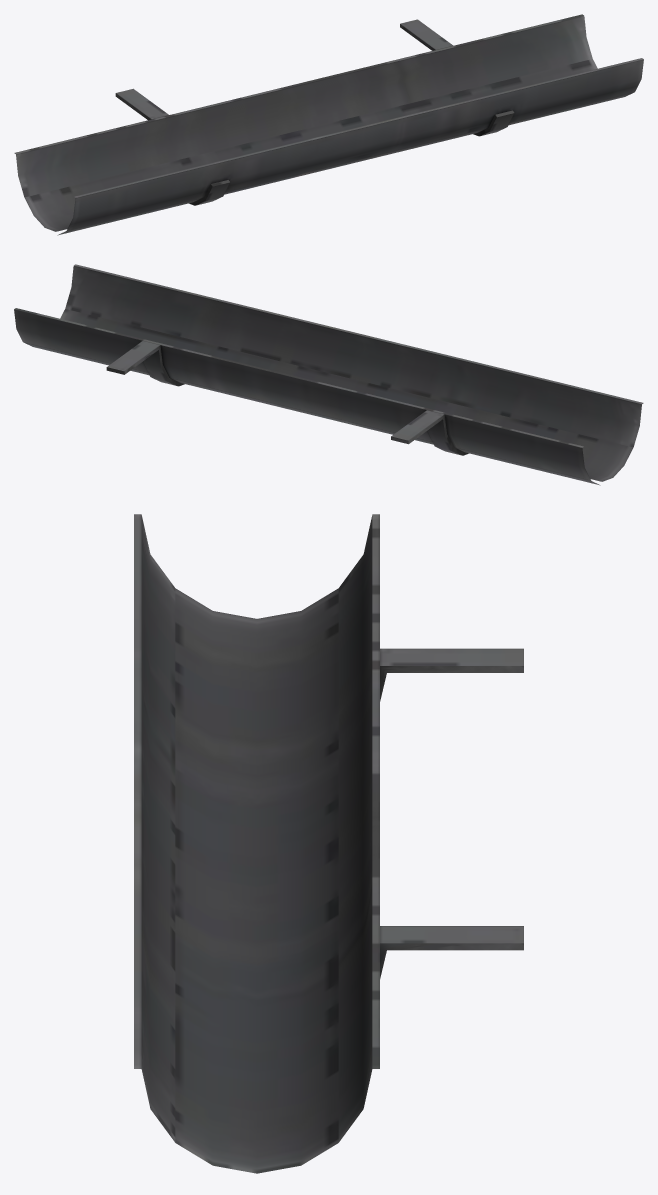
3 renders of one model, top to bottom at view 1: azimuth 30°, elevation 25°; view 2: azimuth 150°, elevation 25°; view 3: azimuth 270°, elevation 25°, orthographic. The views are drawn at different scales.
Parts seen in each view (by area): view 1: body0_model0_lod0_mesh0; view 2: body0_model0_lod0_mesh0; view 3: body0_model0_lod0_mesh0.
Part boxes in pixels (bbox=[...]): body0_model0_lod0_mesh0: bbox=[14, 14, 643, 235]; body0_model0_lod0_mesh0: bbox=[14, 264, 643, 485]; body0_model0_lod0_mesh0: bbox=[134, 514, 523, 1173].
Bounding box in the file's own units: 128 × 12.75 × 38.04.
1 material, 1 textured.
